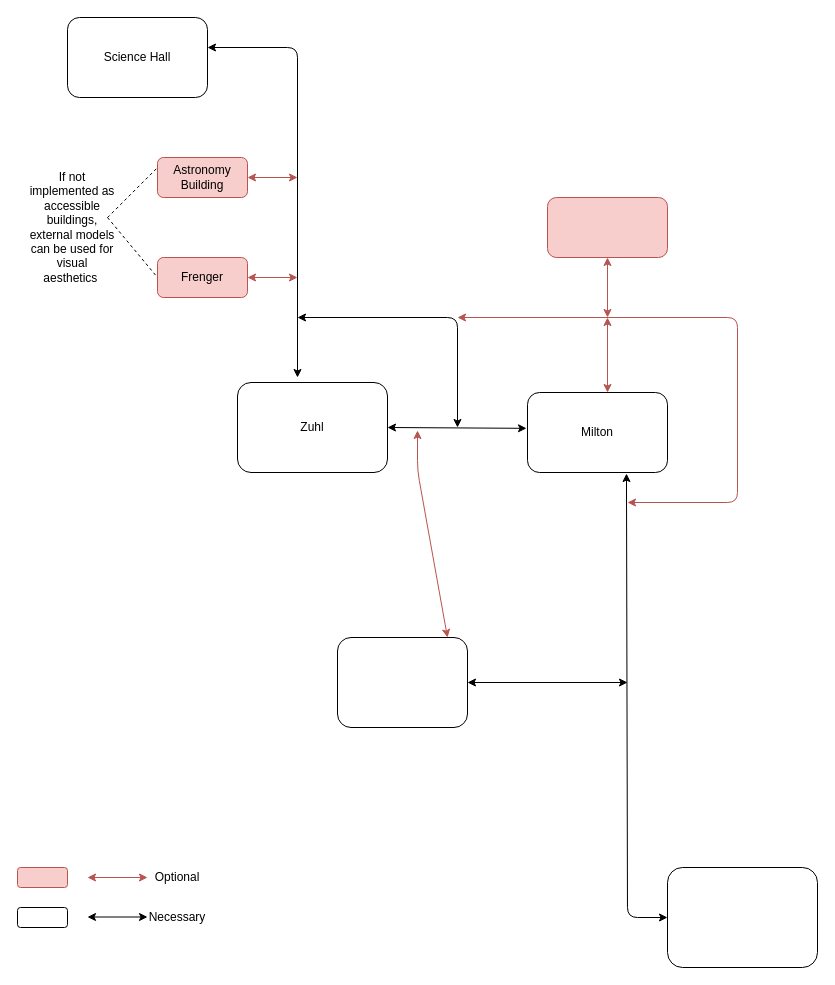
The diagram is 835 pixels wide and 985 high, and some of its shapes have lost their labels. The centre of each missing label's shape, as x and y in pixels:
"Corbett" belongs at point 402,682.
"Garcia" belongs at point 742,917.
"Hardman & Jacobs" belongs at point 607,227.
